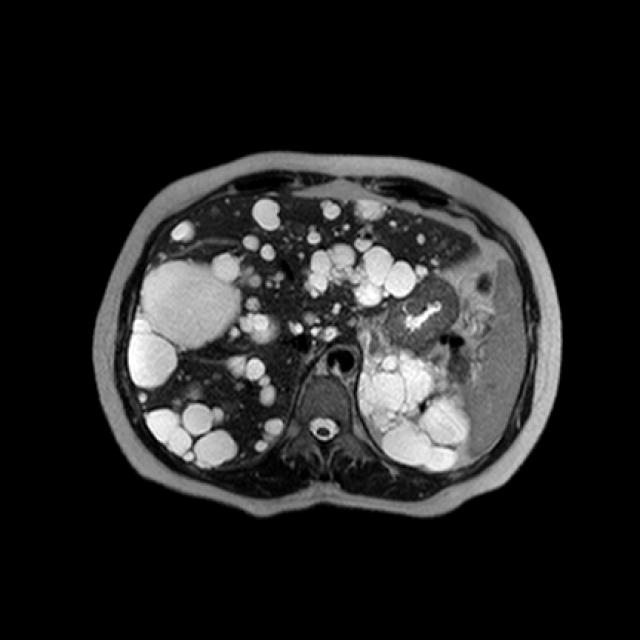sol: (358, 351, 468, 470)
